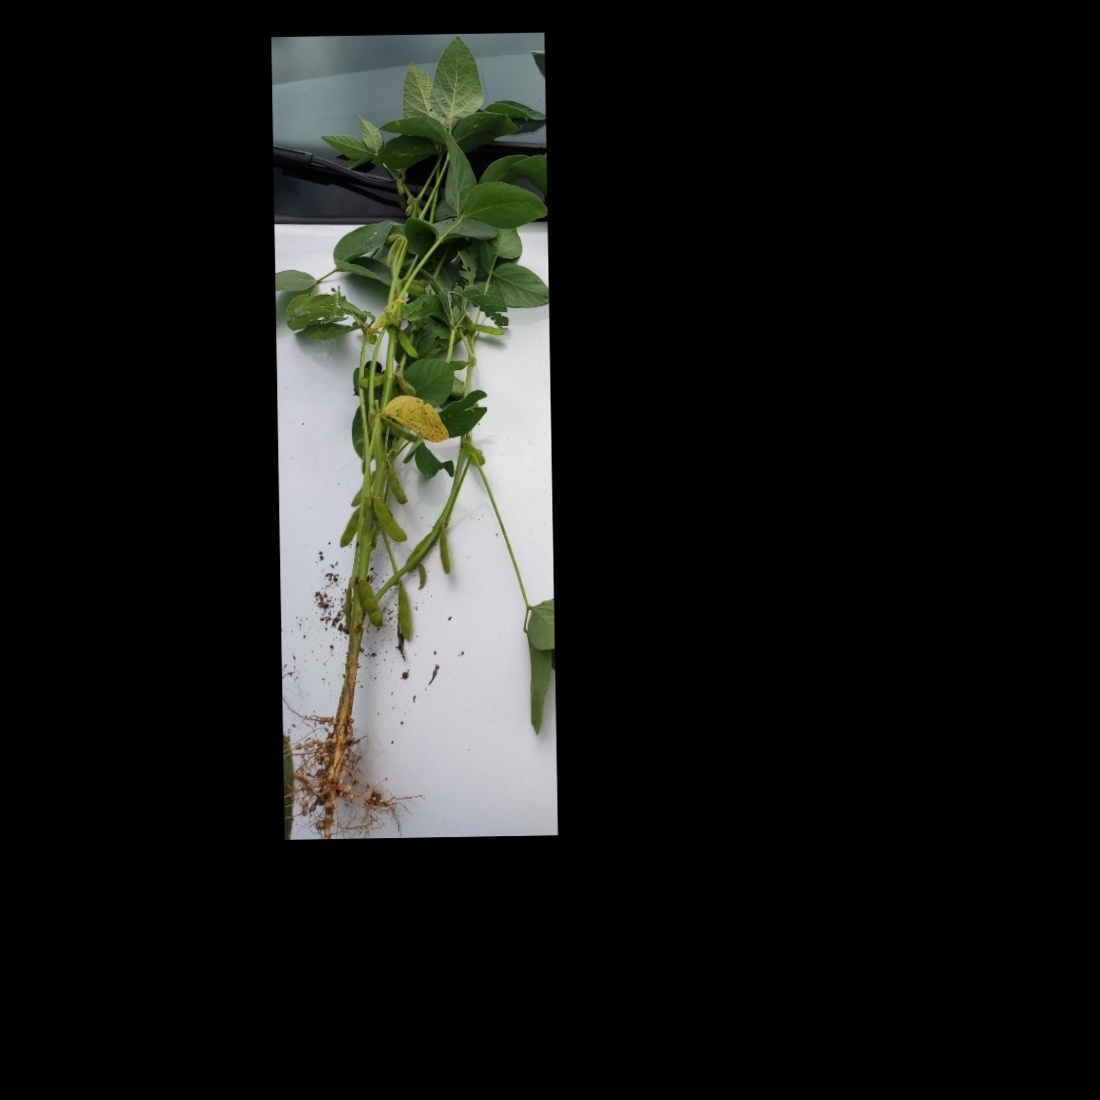pod: (370, 494, 410, 544), (393, 572, 416, 645), (357, 580, 386, 629), (334, 501, 359, 549), (384, 461, 409, 507), (433, 525, 454, 578), (392, 323, 420, 360), (470, 323, 511, 338), (414, 562, 430, 593)
soy: (279, 42, 532, 804)
